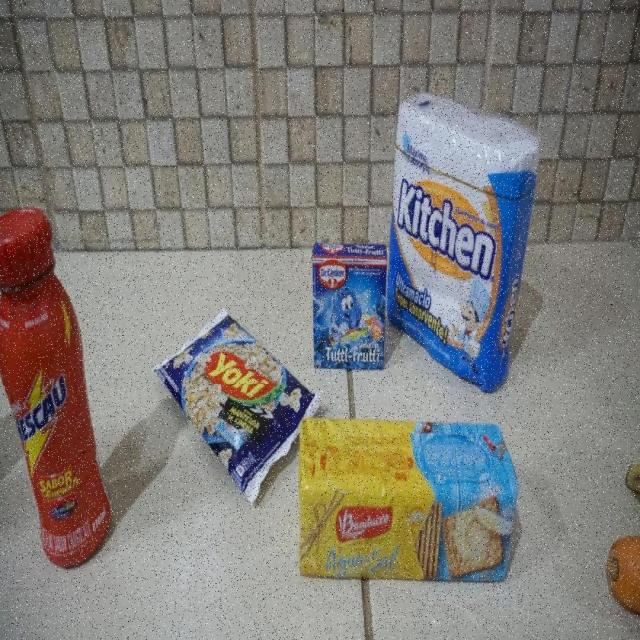Banana: (626, 451, 640, 504)
Carrot: (604, 524, 640, 622), (604, 531, 640, 612)
ChocolateMilk: (0, 208, 116, 562), (0, 205, 112, 571)
Cracker: (297, 417, 521, 587), (301, 417, 517, 590)
Gelatine: (311, 241, 388, 373), (314, 241, 386, 370)
Napkin: (384, 90, 544, 398), (394, 88, 535, 390)
Popcorn: (153, 305, 321, 503), (160, 304, 309, 506)
